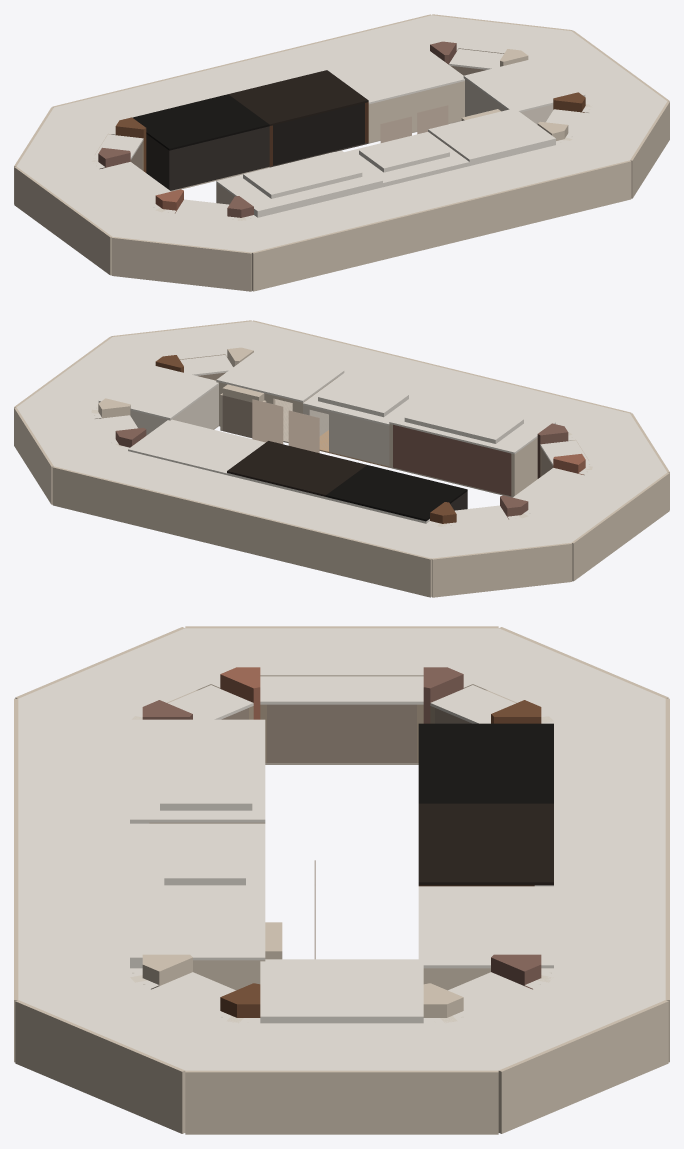
The picture shows the model from 3 angles, top to bottom: view 1: azimuth 30°, elevation 25°; view 2: azimuth 150°, elevation 25°; view 3: azimuth 270°, elevation 25°; orthographic projection. The views are drawn at different scales.
Visible parts, largest first — view 1: dinding luar, dinding luar.011, plafon aula, dinding luar.002, plafon aula.010, plafon aula.004, plafon.020, plafon.019, plafon.018, plafon aula.006, dinding luar.010, plafon aula.008 (+35 smaller); view 2: dinding luar.008, dinding luar.009, dinding luar.006, dinding belakang.010, plafon aula.010, plafon aula.004, plafon aula, plafon aula.008, plafon aula.006, plafon.020, plafon.019, plafon.018 (+35 smaller); view 3: dinding luar.004, plafon aula, plafon aula.004, plafon aula.010, plafon aula.008, plafon aula.006, plafon.019, dinding luar.003, dinding luar.005, plafon.020, plafon.018, plafon aula.002 (+30 smaller).
Part boxes in pixels (left/top/right/bottom): dinding luar: left=252, top=212, right=418, bottom=291; dinding luar.011: left=111, top=236, right=251, bottom=291; plafon aula: left=242, top=187, right=416, bottom=252; dinding luar.002: left=504, top=160, right=631, bottom=229; plafon aula.010: left=17, top=162, right=156, bottom=236; plafon aula.004: left=528, top=31, right=666, bottom=105; plafon.020: left=132, top=94, right=269, bottom=150; plafon.019: left=228, top=70, right=368, bottom=125; plafon.018: left=330, top=48, right=464, bottom=104; plafon aula.006: left=293, top=15, right=439, bottom=71; dinding luar.010: left=14, top=166, right=111, bottom=275; plafon aula.008: left=54, top=73, right=223, bottom=126; dinding luar.008: left=290, top=524, right=431, bottom=597; dinding luar.009: left=432, top=542, right=572, bottom=597; dinding luar.006: left=52, top=466, right=192, bottom=539; dinding belakang.010: left=393, top=424, right=511, bottom=496; plafon aula.010: left=527, top=468, right=666, bottom=542; plafon aula.004: left=17, top=337, right=155, bottom=411; plafon aula: left=438, top=373, right=629, bottom=432; plafon aula.008: left=292, top=499, right=441, bottom=558; plafon aula.006: left=54, top=447, right=226, bottom=500; plafon.020: left=326, top=465, right=467, bottom=521; plafon.019: left=227, top=441, right=366, bottom=496; plafon.018: left=128, top=419, right=265, bottom=474; dinding luar.004: left=185, top=1070, right=498, bottom=1134; plafon aula: left=18, top=699, right=129, bottom=830; plafon aula.004: left=185, top=1023, right=498, bottom=1070; plafon aula.010: left=186, top=628, right=497, bottom=675; plafon aula.008: left=554, top=699, right=665, bottom=810; plafon aula.006: left=554, top=889, right=665, bottom=999; plafon.019: left=418, top=803, right=553, bottom=885; dinding luar.003: left=15, top=1000, right=185, bottom=1133; dinding luar.005: left=498, top=1000, right=668, bottom=1133; plafon.020: left=418, top=723, right=553, bottom=803; plafon.018: left=418, top=886, right=553, bottom=968; plafon aula.002: left=18, top=899, right=129, bottom=999.
Size of the model in its own units: 49.16 by 4.3 by 30.56.
